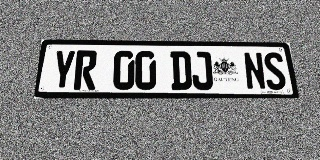0: (113, 51, 135, 90), (135, 51, 156, 90)
D: (170, 51, 192, 90)
J: (191, 51, 213, 90)
N: (243, 52, 267, 90)
R: (73, 50, 98, 90)
S: (263, 52, 287, 90)
Y: (50, 50, 76, 90)
